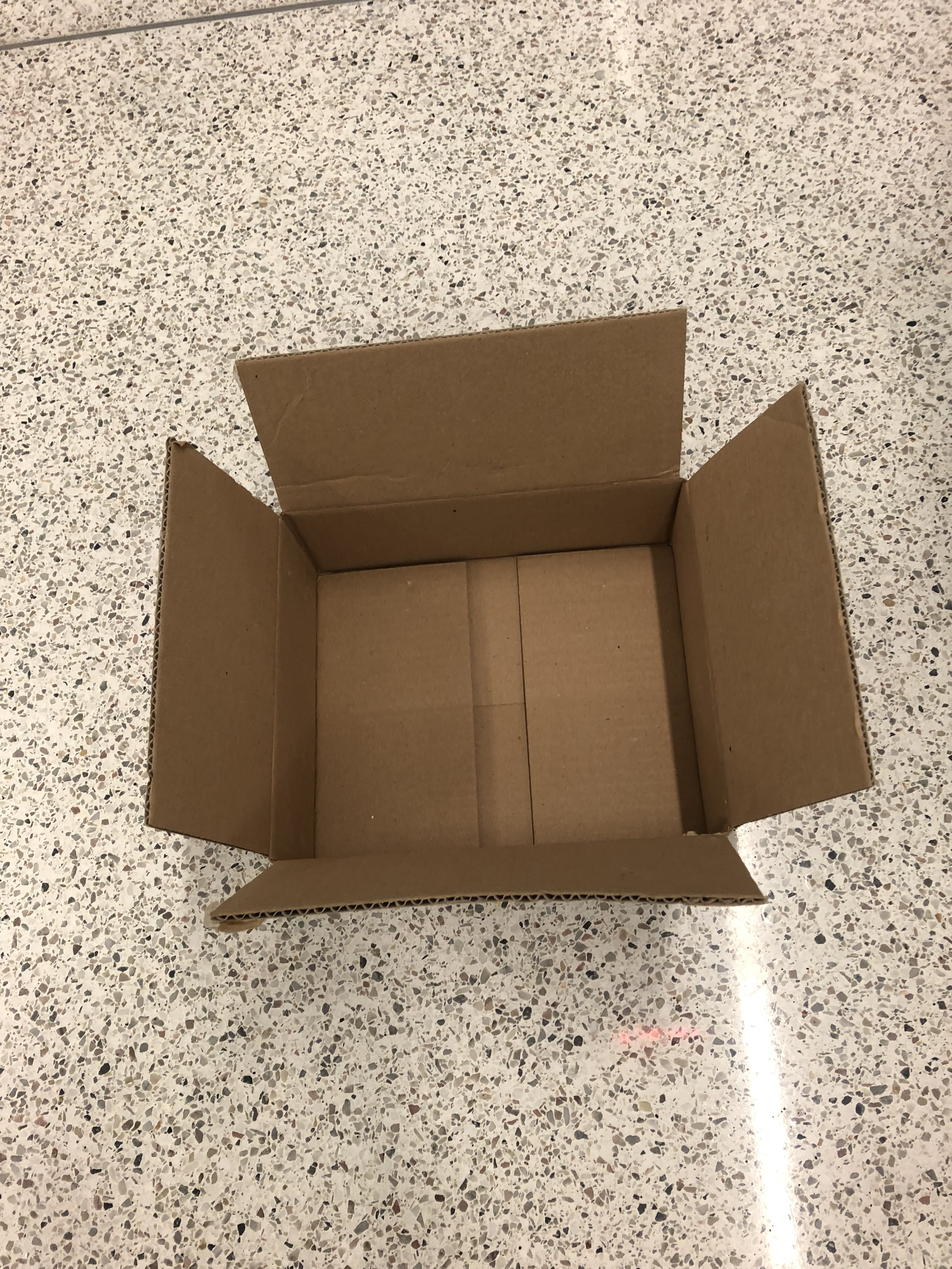box: (143, 304, 880, 923)
crushed: (146, 305, 873, 926)
